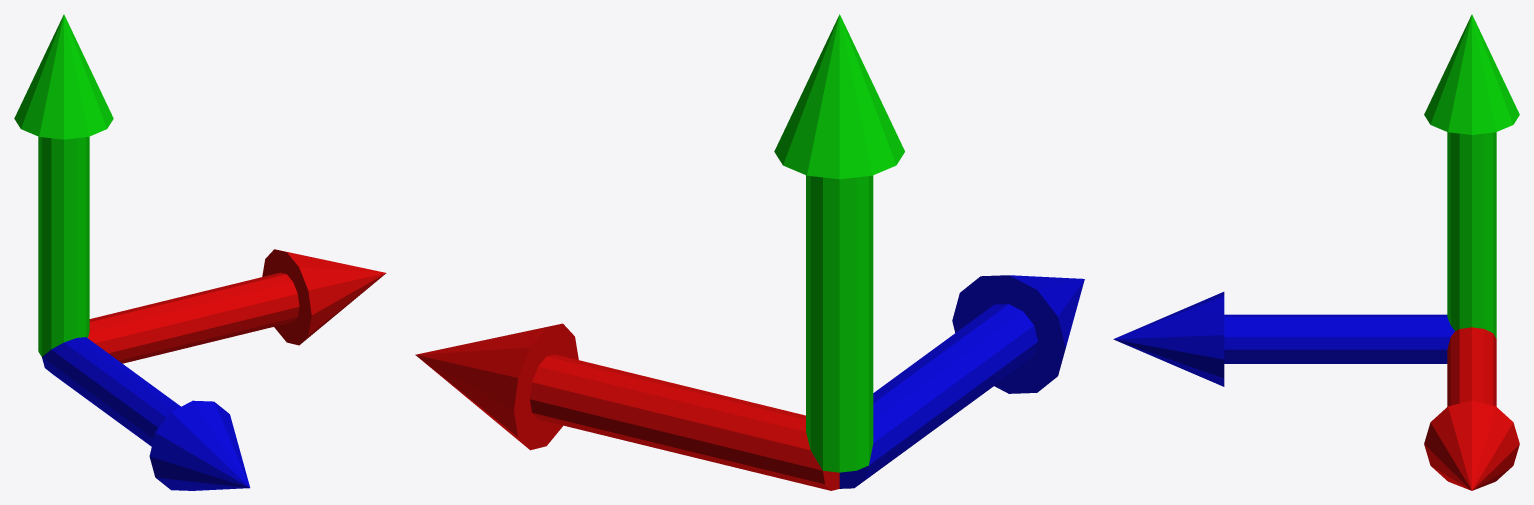
The model's file is SM_Gizmo.fbx.
The picture shows the model from 3 angles, left to right: view 1: azimuth 30°, elevation 25°; view 2: azimuth 150°, elevation 25°; view 3: azimuth 270°, elevation 25°; orthographic projection. The views are drawn at different scales.
Visible parts, largest first — view 1: transform3; view 2: transform3; view 3: transform3.
Part boxes in pixels (<box>): transform3: <box>14,14,386,490</box>; transform3: <box>415,14,1084,490</box>; transform3: <box>1113,14,1519,490</box>.
Bounding box in the file's own units: 28.91 × 28.91 × 28.91.
